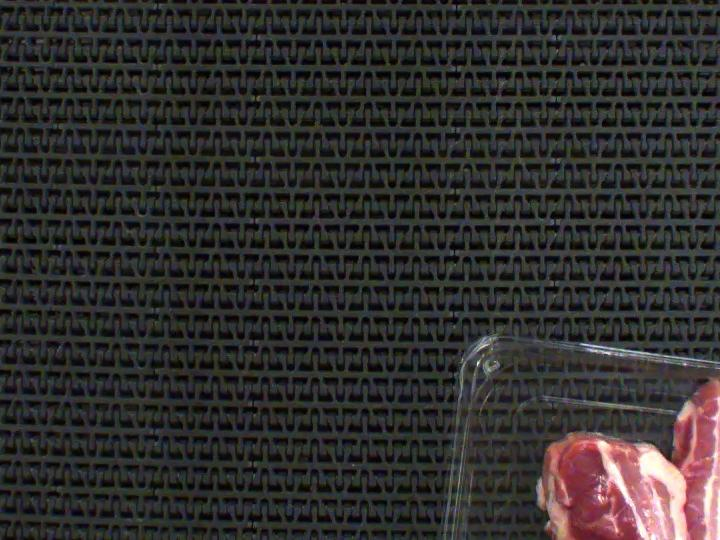packaging-error: (700, 368, 720, 398)
